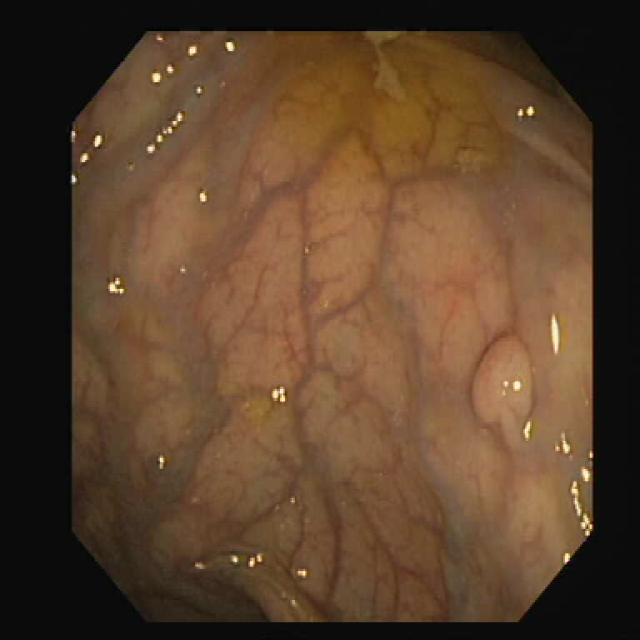tumor: (470, 336, 532, 431)
